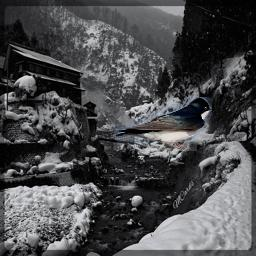Swallow: (114, 97, 212, 151)
